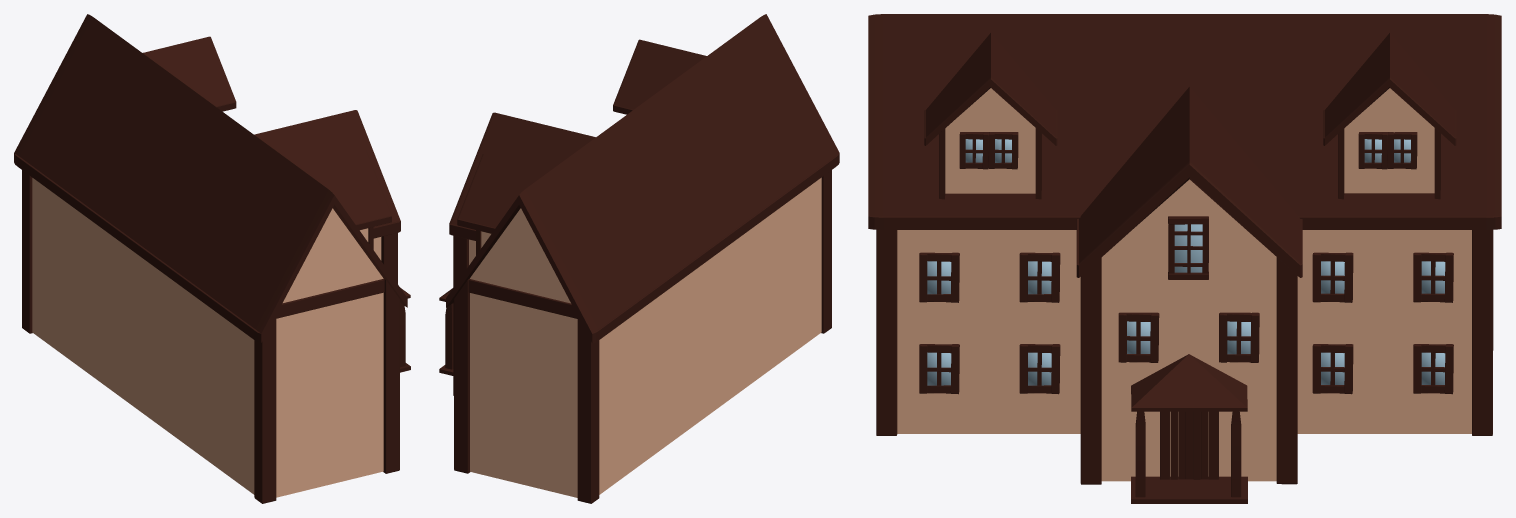
The model's file is house7.fbx.
3 views of the same model, side by side, from view 1: azimuth 30°, elevation 25°; view 2: azimuth 150°, elevation 25°; view 3: azimuth 270°, elevation 25° (orthographic). The views are drawn at different scales.
Parts seen in each view (by area): view 1: Cube, Cube.003, Cube.004, Cube.008, Cube.090, Cube.118, Cube.009, Cube.007, Cube.088, Cube.084; view 2: Cube, Cube.003, Cube.004, Cube.007, Cube.118, Cube.090, Cube.006, Cube.008, Cube.089, Cube.085, Cube.036; view 3: Cube.003, Cube, Cube.001, Cube.004, Cube.090, Cube.118, Cube.086, Cube.119, Cone, Cube.085, Cube.084, Cube.009 (+7 smaller).
Part boxes in pixels (x1,y1,x2,y2): Cube: (32, 178, 383, 497); Cube.003: (14, 14, 407, 343); Cube.004: (254, 110, 400, 238); Cube.008: (254, 315, 276, 503); Cube.090: (298, 150, 391, 230); Cube.118: (143, 36, 236, 111); Cube.009: (383, 279, 399, 473); Cube.007: (22, 170, 32, 333); Cube.088: (276, 279, 384, 318); Cube.084: (381, 232, 397, 283); Cube: (470, 177, 821, 497); Cube.003: (446, 14, 839, 343); Cube.004: (449, 112, 595, 240); Cube.007: (577, 316, 599, 503); Cube.118: (457, 153, 550, 233); Cube.090: (613, 39, 706, 114); Cube.006: (454, 278, 469, 473); Cube.008: (821, 170, 831, 333); Cube.089: (468, 279, 577, 318); Cube.085: (453, 235, 468, 395); Cube.036: (445, 303, 453, 369); Cube.003: (868, 14, 1501, 229); Cube: (897, 230, 1471, 433); Cube.001: (1101, 179, 1276, 481); Cube.004: (1076, 86, 1302, 277); Cube.090: (924, 33, 1057, 145); Cube.118: (1323, 33, 1456, 145); Cube.086: (945, 88, 1035, 193); Cube.119: (1344, 88, 1434, 193); Cone: (1131, 354, 1247, 411); Cube.085: (1276, 257, 1297, 484); Cube.084: (1080, 258, 1101, 484); Cube.009: (876, 229, 897, 435).
Bounding box in the file's own units: 3619 × 4035 × 6106.
